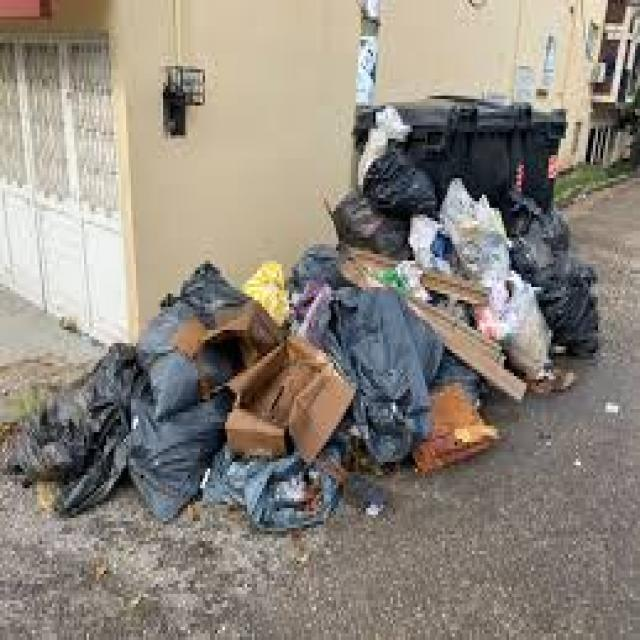garbage: (2, 125, 610, 530)
